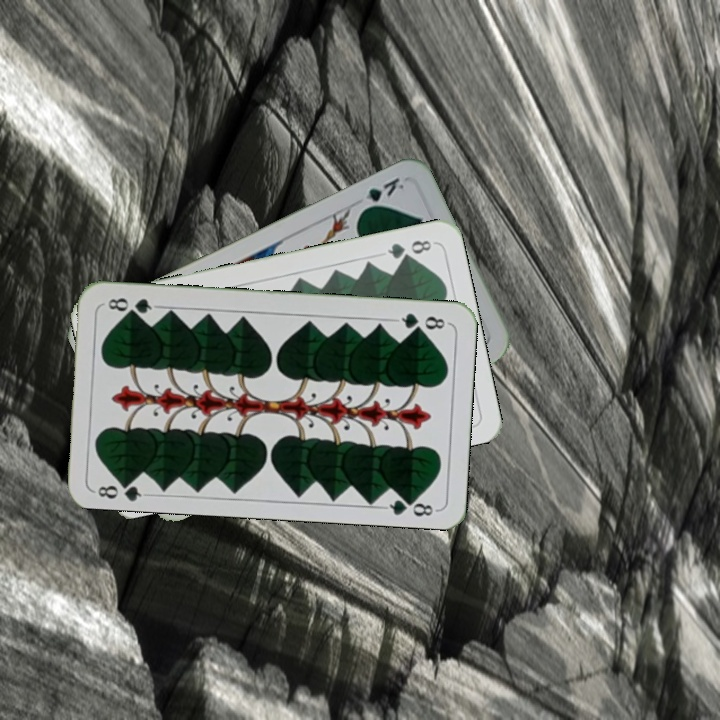G8: (91, 474, 150, 503), (392, 309, 451, 334), (383, 236, 434, 262)
GK: (356, 173, 407, 214)
